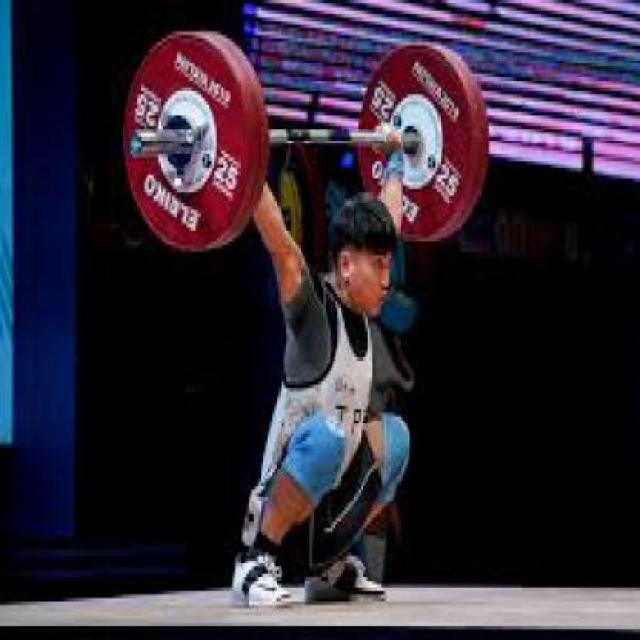Barbell: (125, 128, 144, 158)
